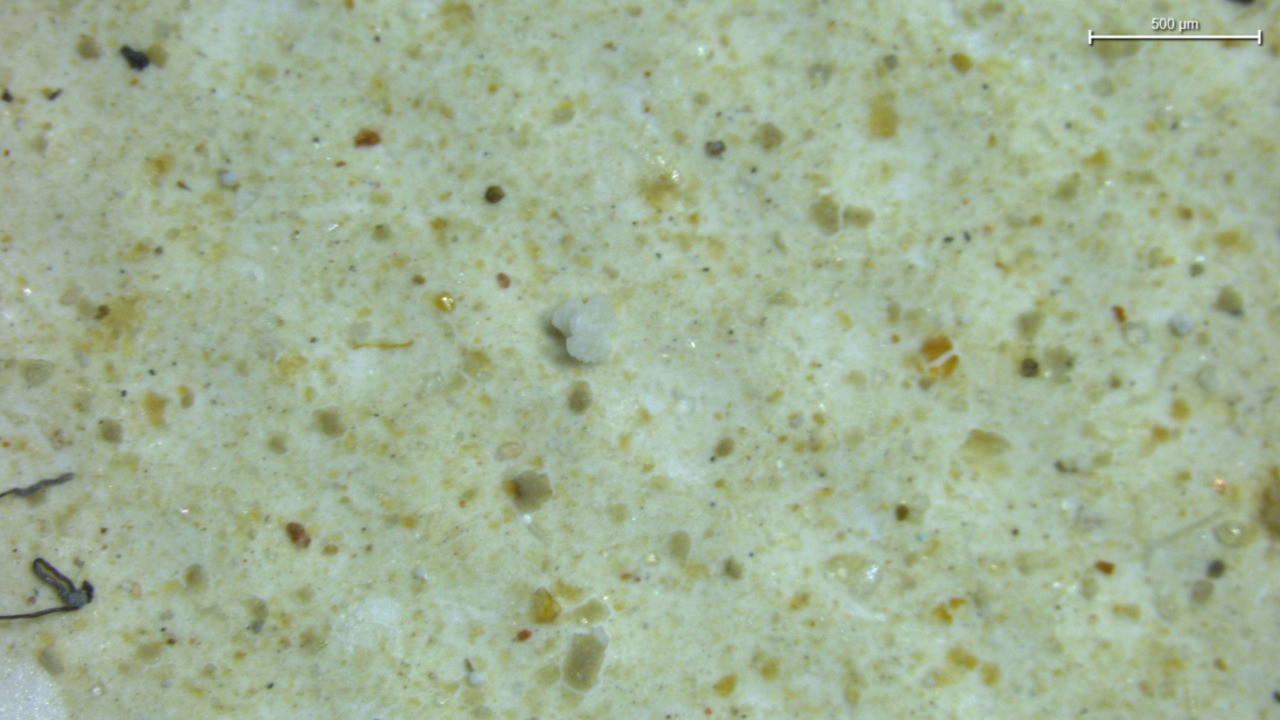microplastic_fragment: (547, 295, 615, 362)
